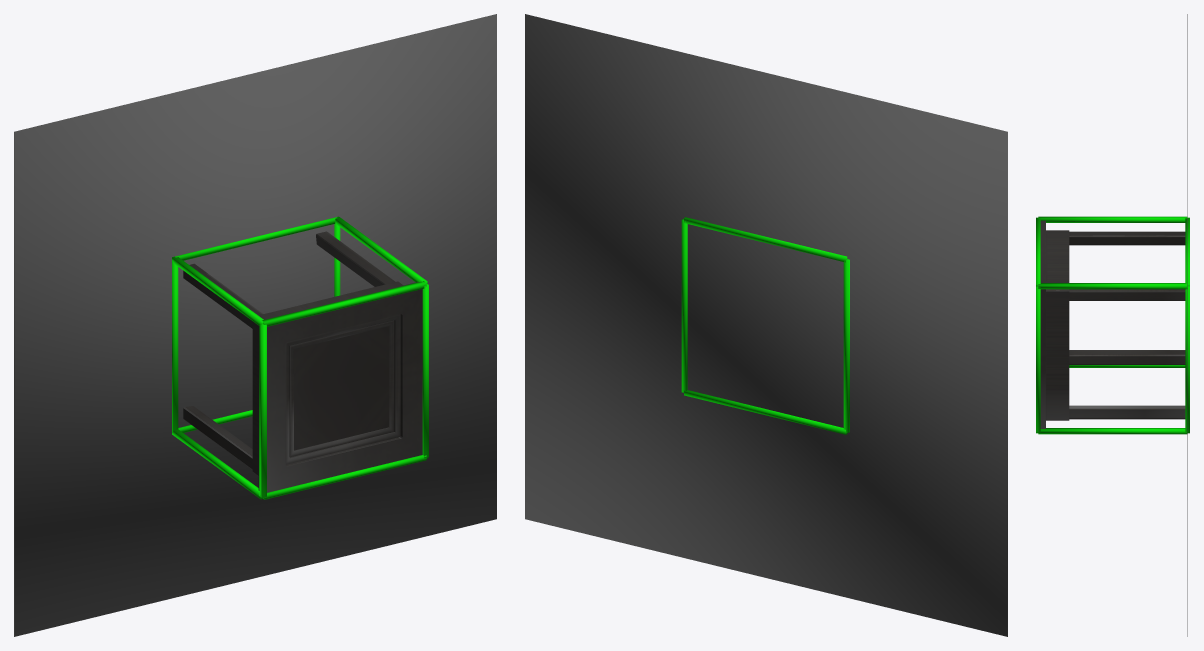
The picture shows the model from 3 angles, left to right: view 1: azimuth 30°, elevation 25°; view 2: azimuth 150°, elevation 25°; view 3: azimuth 270°, elevation 25°; orthographic projection. The views are drawn at different scales.
Bounding box in the file's own units: 2 × 2 × 0.6566.
